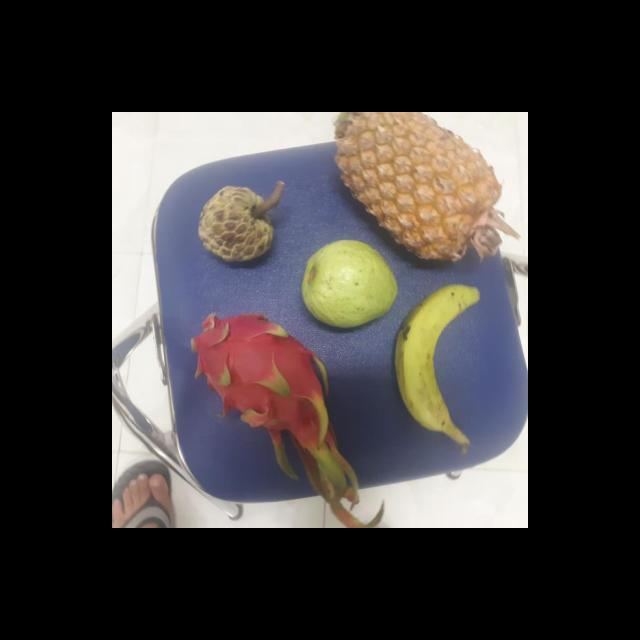Sakya fruit: (195, 186, 275, 266)
banana: (388, 283, 481, 438)
guava: (296, 240, 396, 327)
pineapple: (331, 112, 500, 258)
pitaya: (186, 313, 332, 444)
